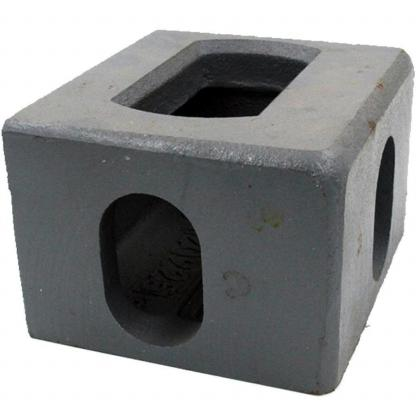CornerCasting: (3, 20, 416, 396)
